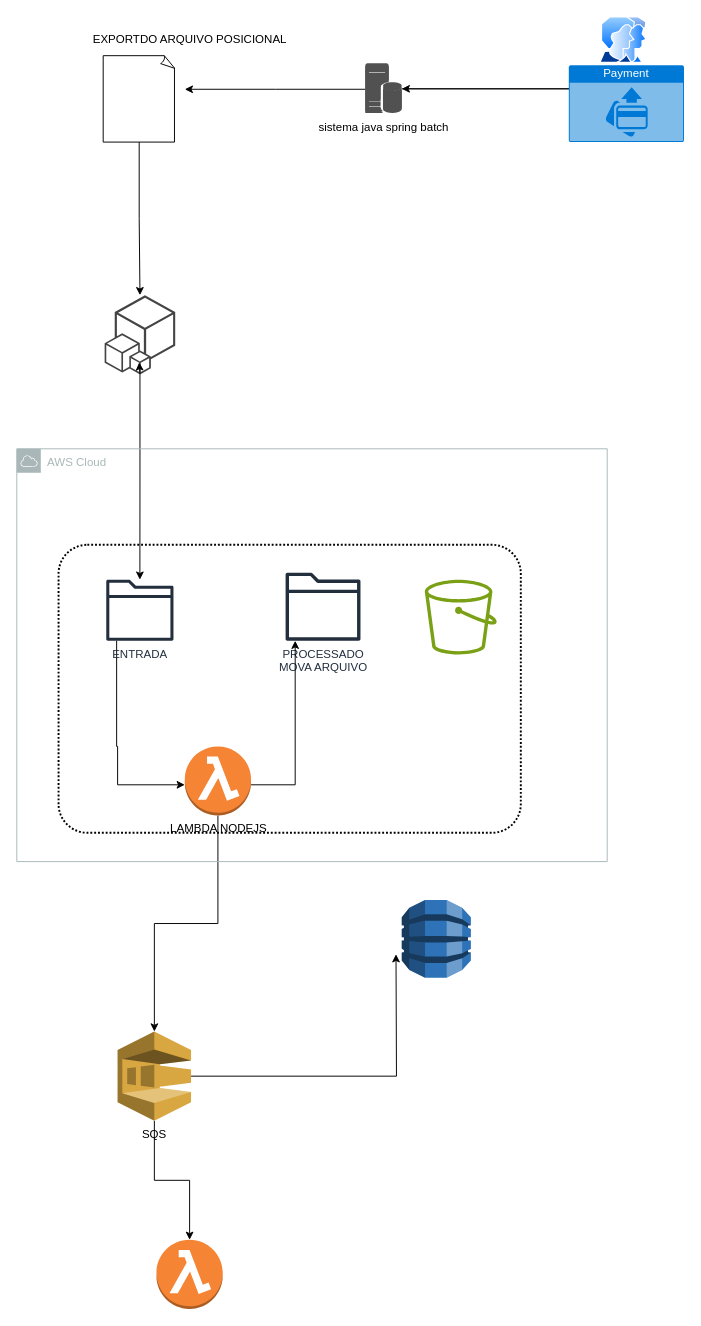
This 701x1326 diagram has some shape labels left out. Each missing label, with the centre of its shape:
arquivo banco: the point at 138,98
AWS CLI: the point at 139,334
DYNAMO D6: the point at 436,938
